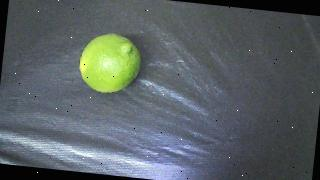LOCAL: (77, 31, 143, 96)
